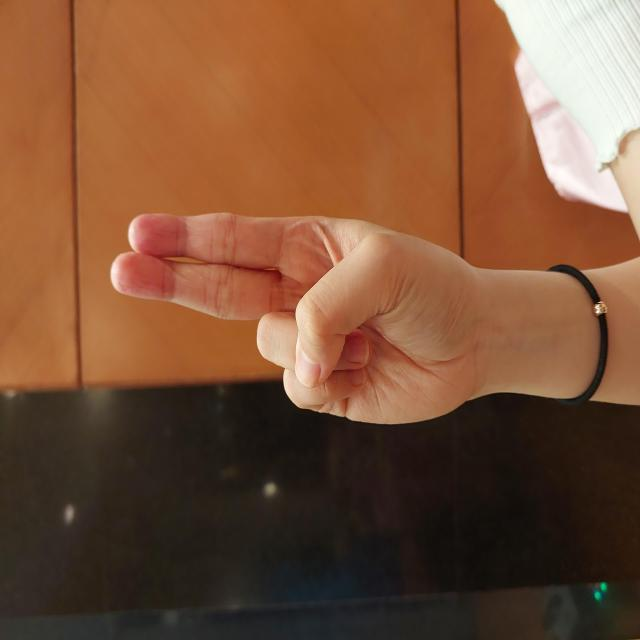U: (211, 108, 431, 477)
